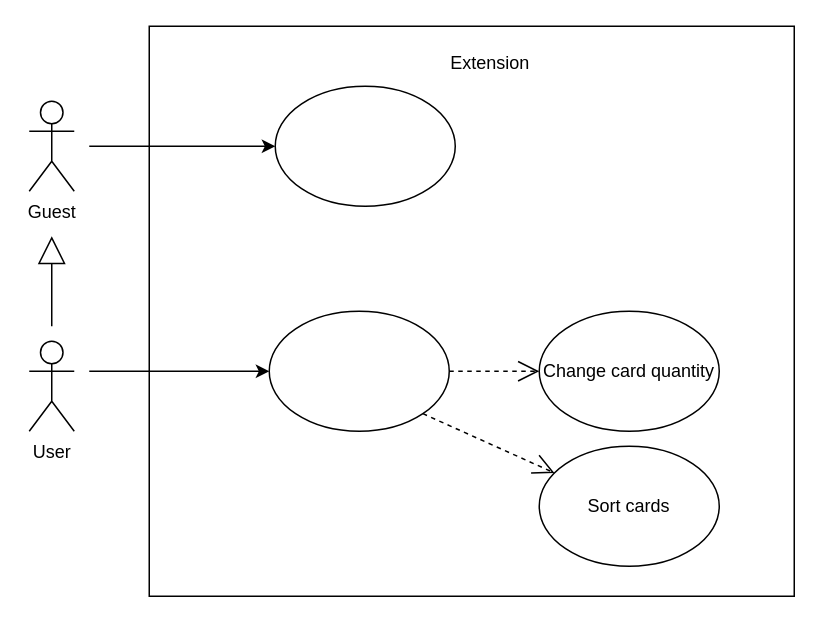
Image size: 821x623. Some labels were removed from this diagram. Here are the shapes that lost their labels. From the top down, the centre of each, then its label:
pixel 364 145: Login
pixel 358 370: Select an extension
